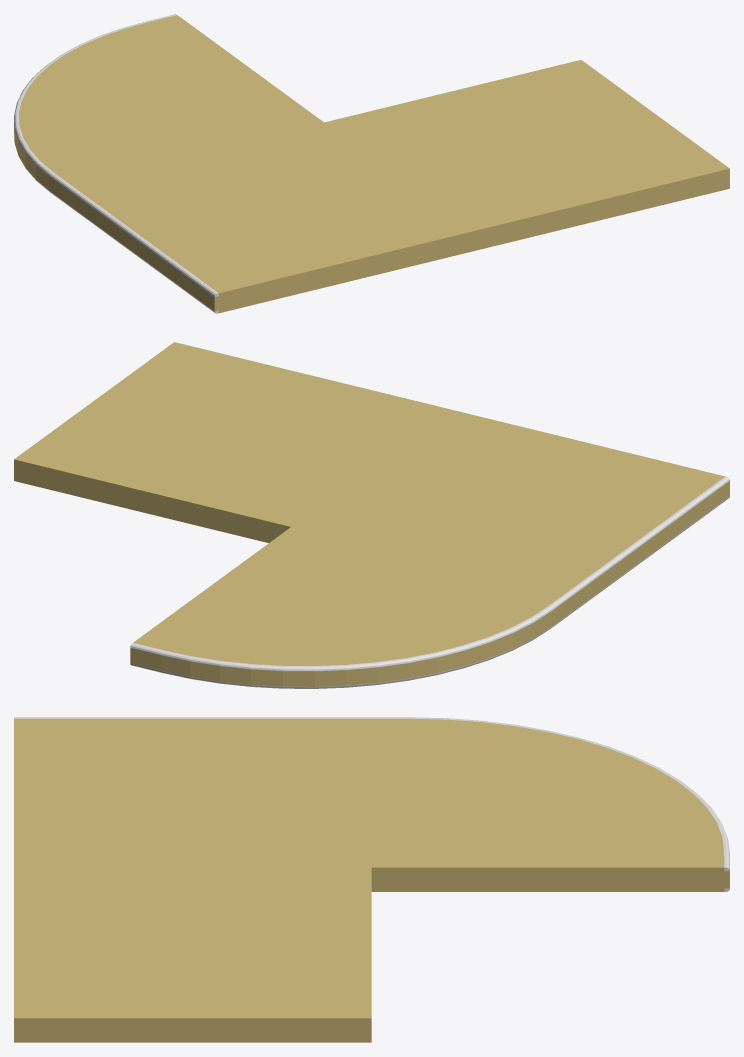
File: Rounded.fbx
3 views of the same model, one above another, from view 1: azimuth 30°, elevation 25°; view 2: azimuth 150°, elevation 25°; view 3: azimuth 270°, elevation 25° (orthographic). The views are drawn at different scales.
Parts seen in each view (by area): view 1: Edge, Center, Corner; view 2: Center, Edge, Corner; view 3: Center, Edge, Corner.
Part boxes in pixels (x1=…): Edge: x1=66, y1=122, x2=472, y2=313; Center: x1=324, y1=60, x2=729, y2=251; Corner: x1=14, y1=14, x2=323, y2=203; Center: x1=14, y1=342, x2=450, y2=542; Edge: x1=291, y1=409, x2=729, y2=614; Corner: x1=130, y1=527, x2=569, y2=688; Center: x1=14, y1=867, x2=371, y2=1042; Edge: x1=14, y1=717, x2=371, y2=867; Corner: x1=371, y1=717, x2=729, y2=891.
Bounding box in the file's own units: 385 × 14.32 × 385.
